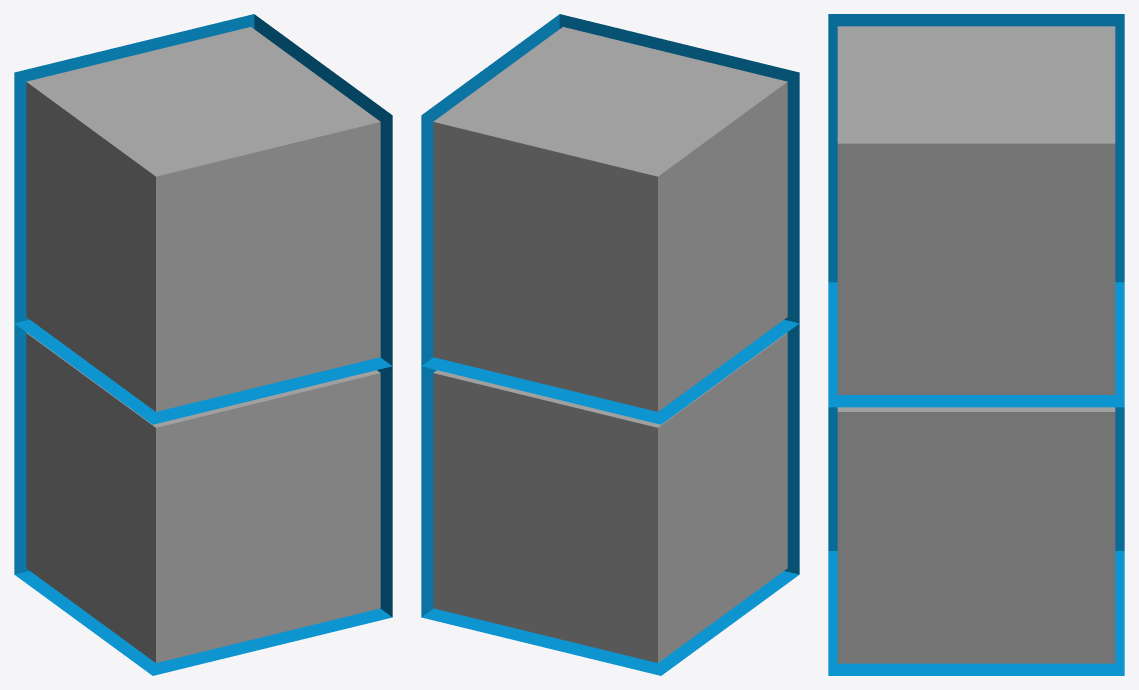
Rendered from GRAY_CUBE.glb.
The picture shows the model from 3 angles, left to right: view 1: azimuth 30°, elevation 25°; view 2: azimuth 150°, elevation 25°; view 3: azimuth 270°, elevation 25°; orthographic projection. The views are drawn at different scales.
Parts seen in each view (by area): view 1: gr_Box2, obj13, Sel_Box, obj9; view 2: gr_Box2, obj13, Sel_Box, obj9; view 3: gr_Box2, obj13, Sel_Box, obj9.
Part boxes in pixels (box(x1,y1,x2,y2)): gr_Box2: box(26, 27, 380, 411); obj13: box(26, 332, 380, 662); Sel_Box: box(14, 14, 392, 424); obj9: box(14, 323, 392, 675); gr_Box2: box(433, 27, 787, 411); obj13: box(433, 332, 787, 662); Sel_Box: box(421, 14, 799, 424); obj9: box(421, 323, 799, 675); gr_Box2: box(837, 26, 1115, 394); obj13: box(837, 407, 1115, 663); Sel_Box: box(828, 14, 1124, 407); obj9: box(828, 407, 1124, 675).
Bounding box in the file's own units: 3.2 × 6.4 × 3.2.
Materials: 4 (4 with a texture image).
